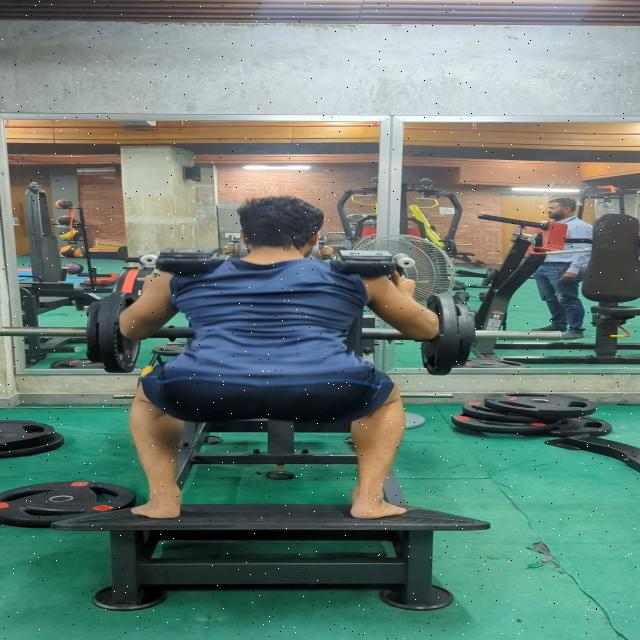Normal_SquatsWithBarbell: (93, 177, 464, 539)
